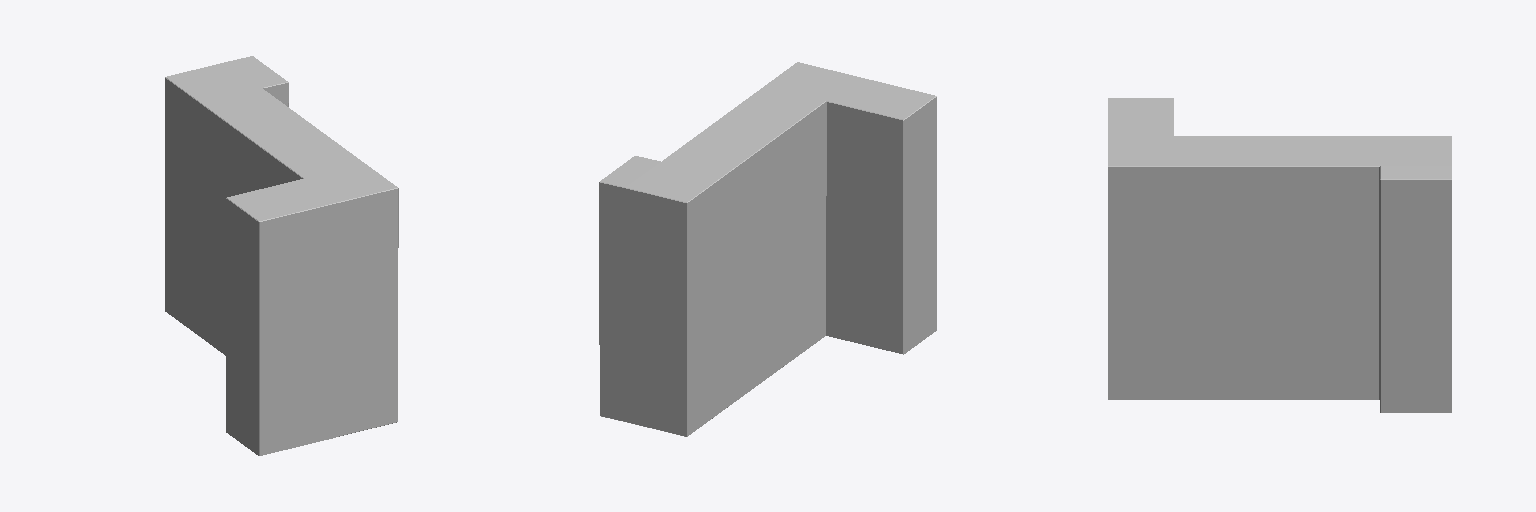
The model's file is Room_02_Platform_02.obj.
3 views of the same model, side by side, from view 1: azimuth 30°, elevation 25°; view 2: azimuth 150°, elevation 25°; view 3: azimuth 270°, elevation 25° (orthographic).
Visible parts, largest first — view 1: Room_02_Platform_02_Cube.018; view 2: Room_02_Platform_02_Cube.018; view 3: Room_02_Platform_02_Cube.018.
Boxes of the visible parts, <box> form: Room_02_Platform_02_Cube.018: <box>165,56,398,455</box>; Room_02_Platform_02_Cube.018: <box>599,62,936,436</box>; Room_02_Platform_02_Cube.018: <box>1108,98,1451,412</box>.
Size of the model in its own units: 7.97 by 10.77 by 14.31.